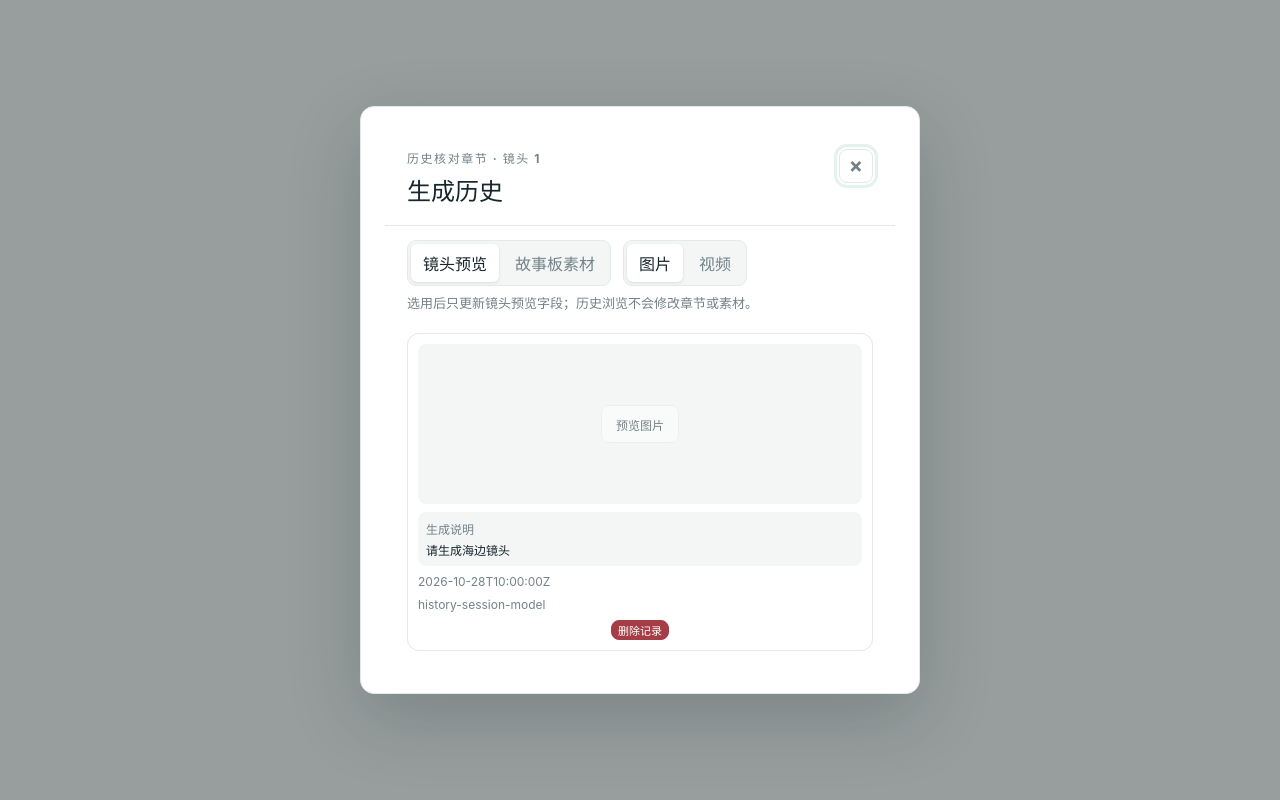
it: ChapterGenerationHistorySession › requires confirmation before deleting a user history message and verifies removal
Expected: the text "请生成海边镜头" is shown, [426, 543, 510, 558]
Click the button "删除记录": point(640, 630) [611, 620, 669, 640]
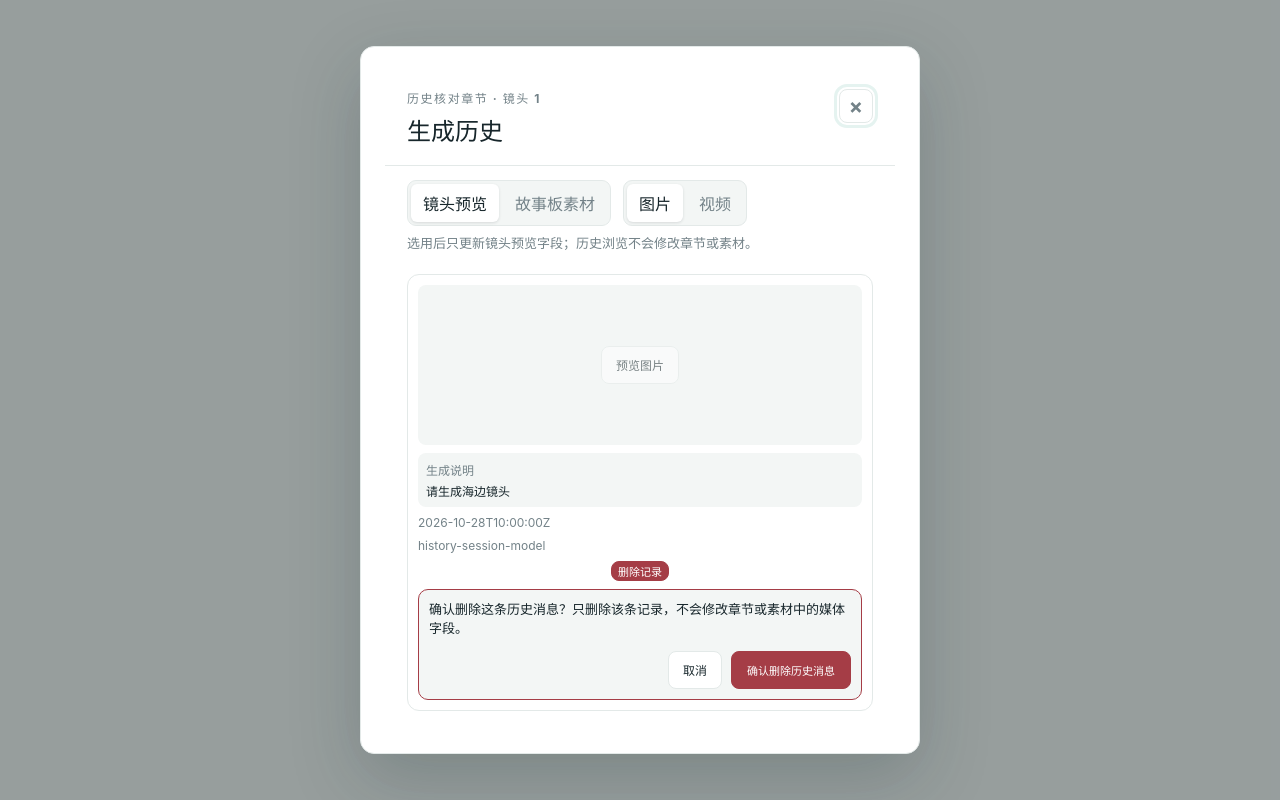
Result: the element "确认删除历史消息" is shown at [418, 589, 862, 700]
Click the button "确认删除历史消息": point(791, 670) [731, 651, 851, 689]
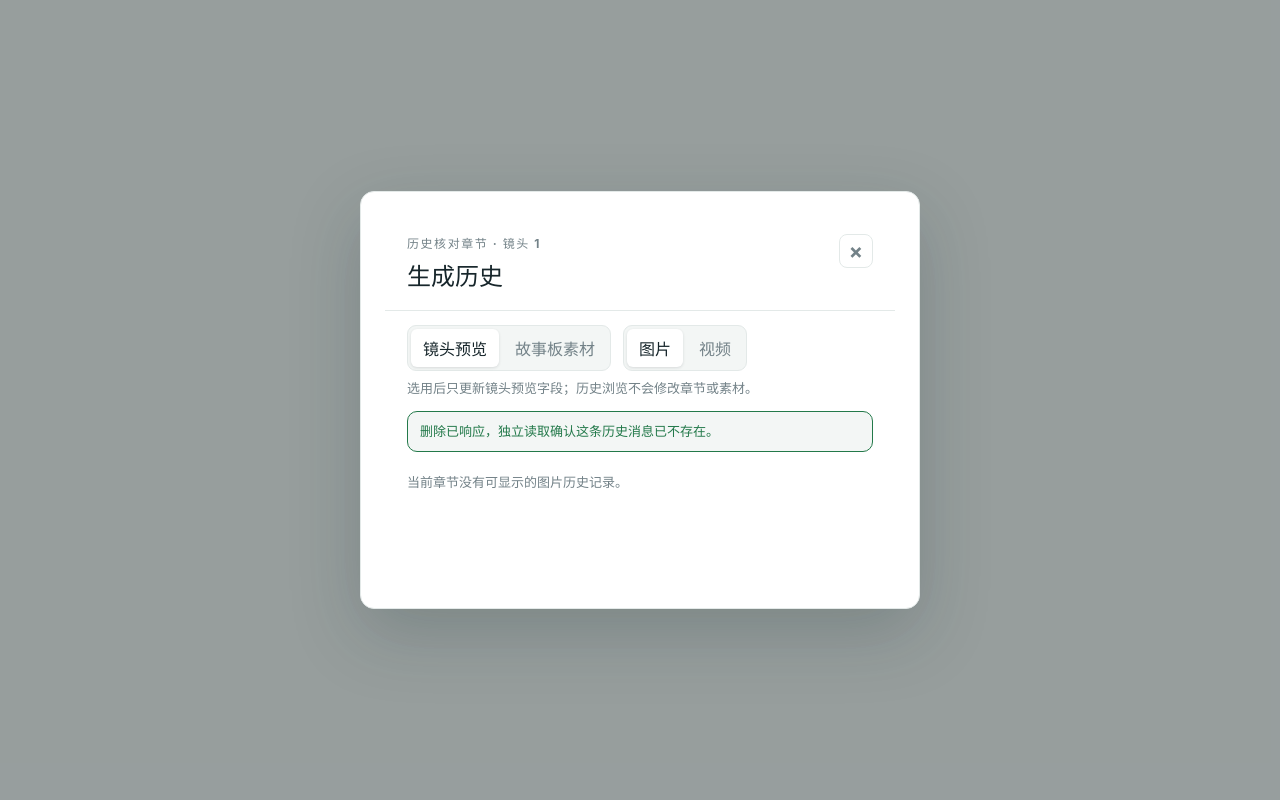
Result: the text "删除已响应，独立读取确认这条历史消息已不存在。" is shown at [420, 422, 719, 438]
